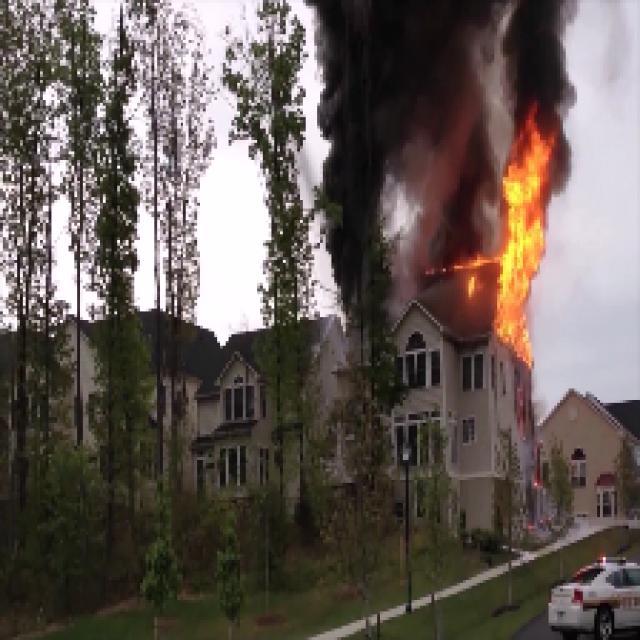fire: (502, 148, 543, 342)
smoke: (308, 0, 490, 266), (508, 2, 557, 125)
